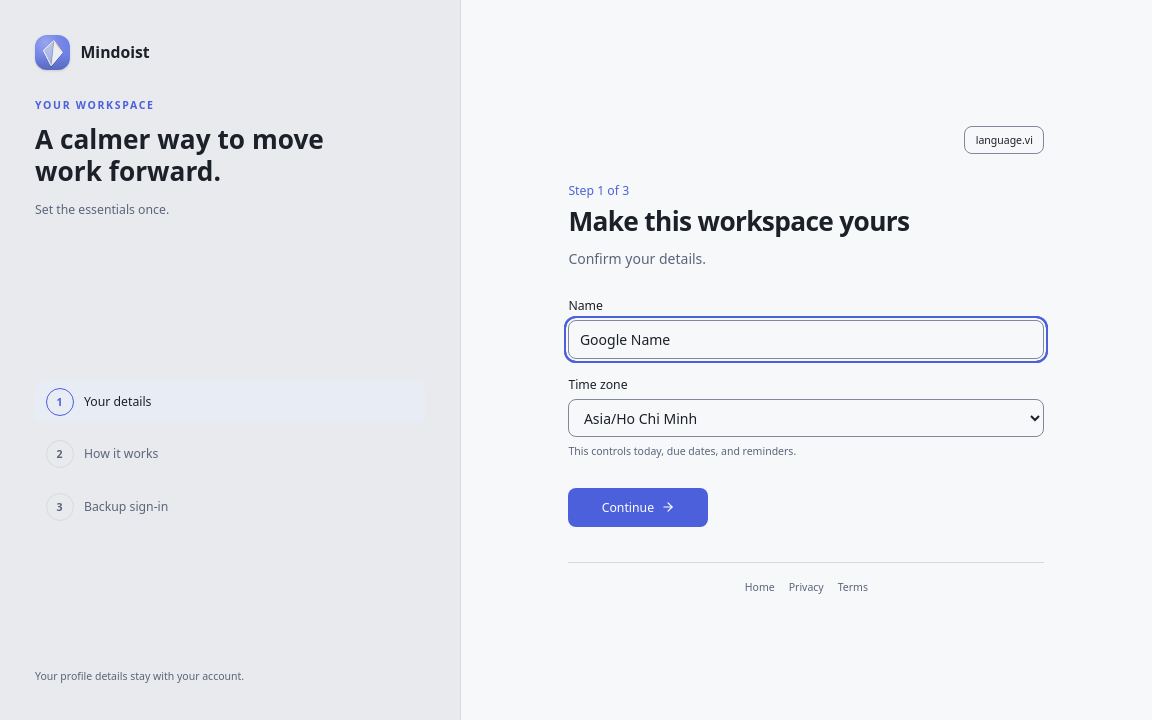
Scenario: Onboarding › keeps the final step open when setup fails
Click the button "Continue": (638, 507) [568,488,708,527]
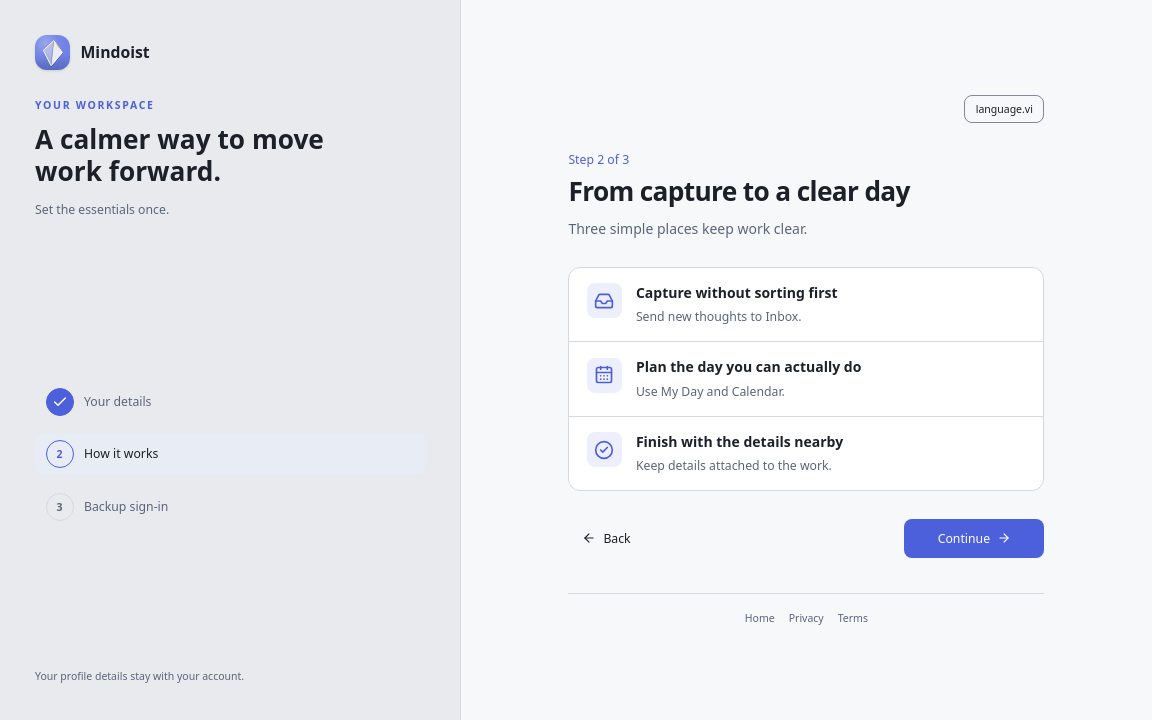
Expected: the heading "From capture to a clear day" is shown, [568,172,910,208]
Click the button "Continue": (974, 538) [904,519,1044,558]
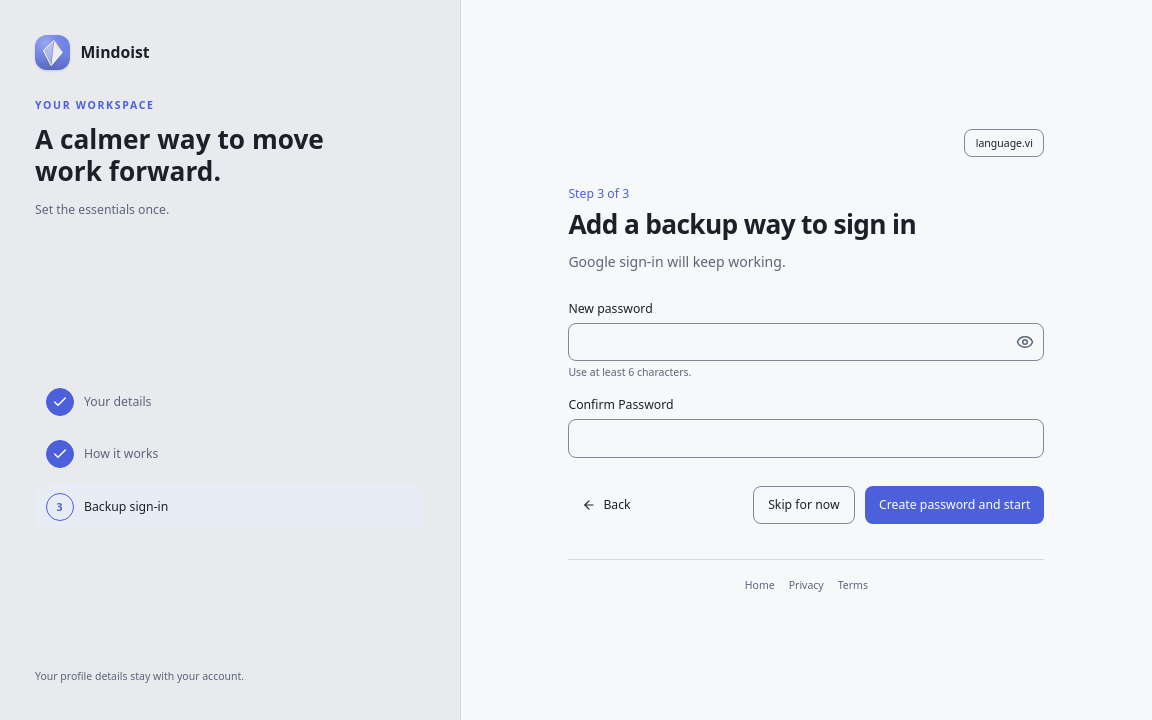
Expected: the heading "Add a backup way to sign in" is shown, [568,206,916,242]
Click the button "Skip for now": (804, 505) [753,486,854,524]
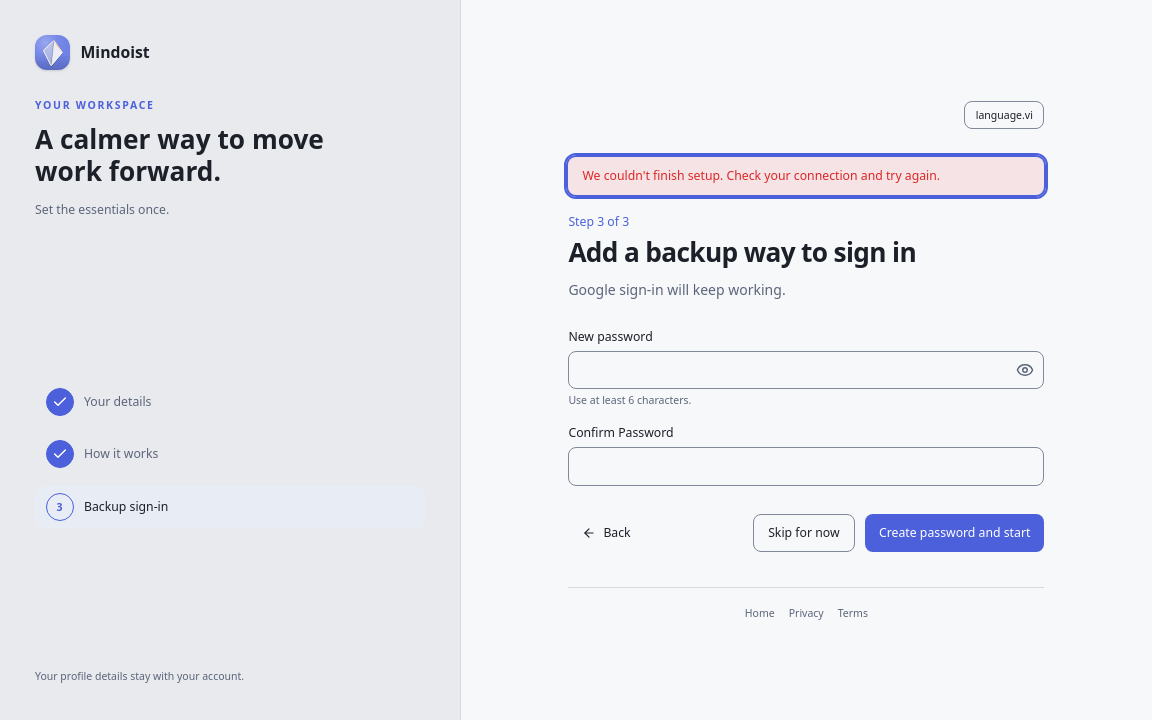
Expected: the heading "Add a backup way to sign in" is shown, [568,234,916,270]
Expected: the message reads "We couldn't finish setup. Check your connection and try again.", [582,167,940,184]
